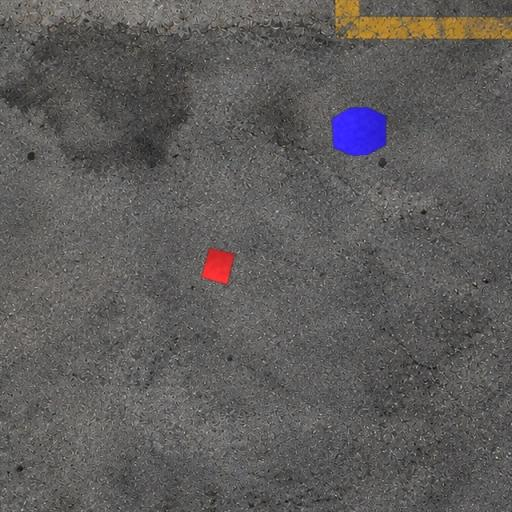RED_SQUARE: (201, 247, 235, 285)
